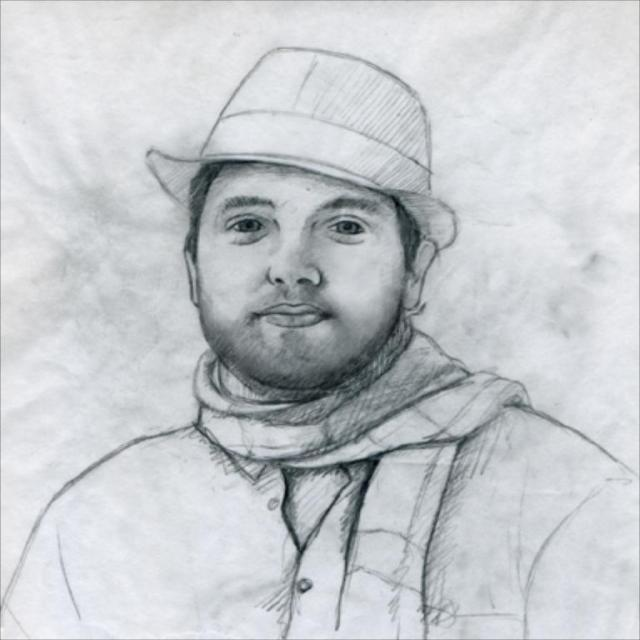Hat: (143, 45, 455, 253)
